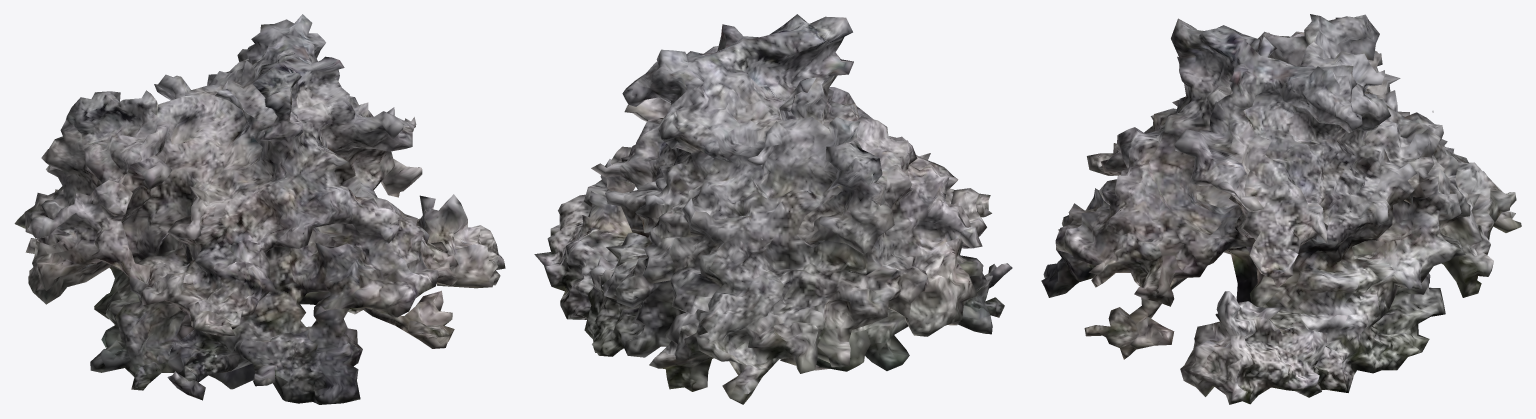
Rendered from photogrammetry-sakura.glb.
3 renders of one model, left to right at view 1: azimuth 30°, elevation 25°; view 2: azimuth 150°, elevation 25°; view 3: azimuth 270°, elevation 25°, orthographic. The views are drawn at different scales.
Parts seen in each view (by area): view 1: baked_mesh; view 2: baked_mesh; view 3: baked_mesh.
Boxes of the visible parts, x1,y1,x2,y2 form: baked_mesh: [14, 14, 505, 404]; baked_mesh: [534, 14, 1012, 404]; baked_mesh: [1041, 14, 1521, 404].
Bounding box in the file's own units: 0.4691 × 0.3091 × 0.4322.
1 material, 1 textured.
